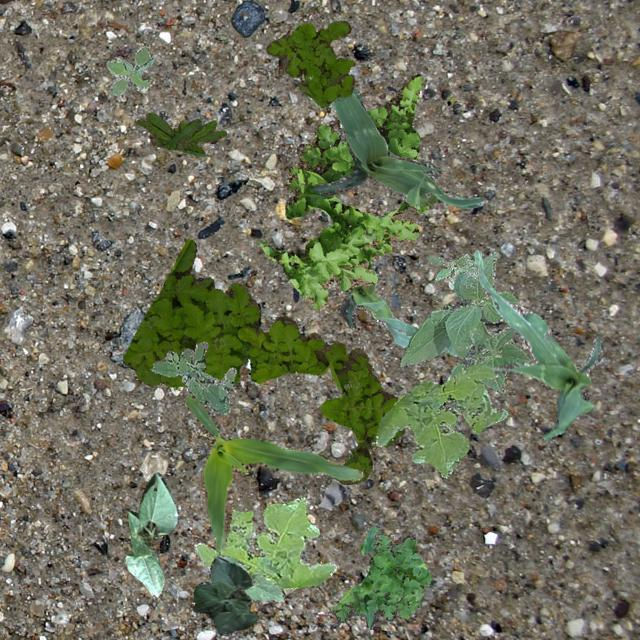crop: (184, 396, 362, 550), (472, 248, 604, 440), (309, 86, 486, 208), (398, 250, 530, 394), (342, 280, 470, 360), (122, 472, 178, 596), (192, 556, 256, 632), (212, 554, 284, 600)
weed: (122, 237, 404, 483), (258, 72, 428, 310), (374, 362, 506, 478), (192, 496, 336, 588), (330, 524, 430, 628), (266, 20, 354, 106), (150, 341, 236, 414), (134, 111, 226, 156), (104, 44, 152, 94), (425, 252, 479, 288)
